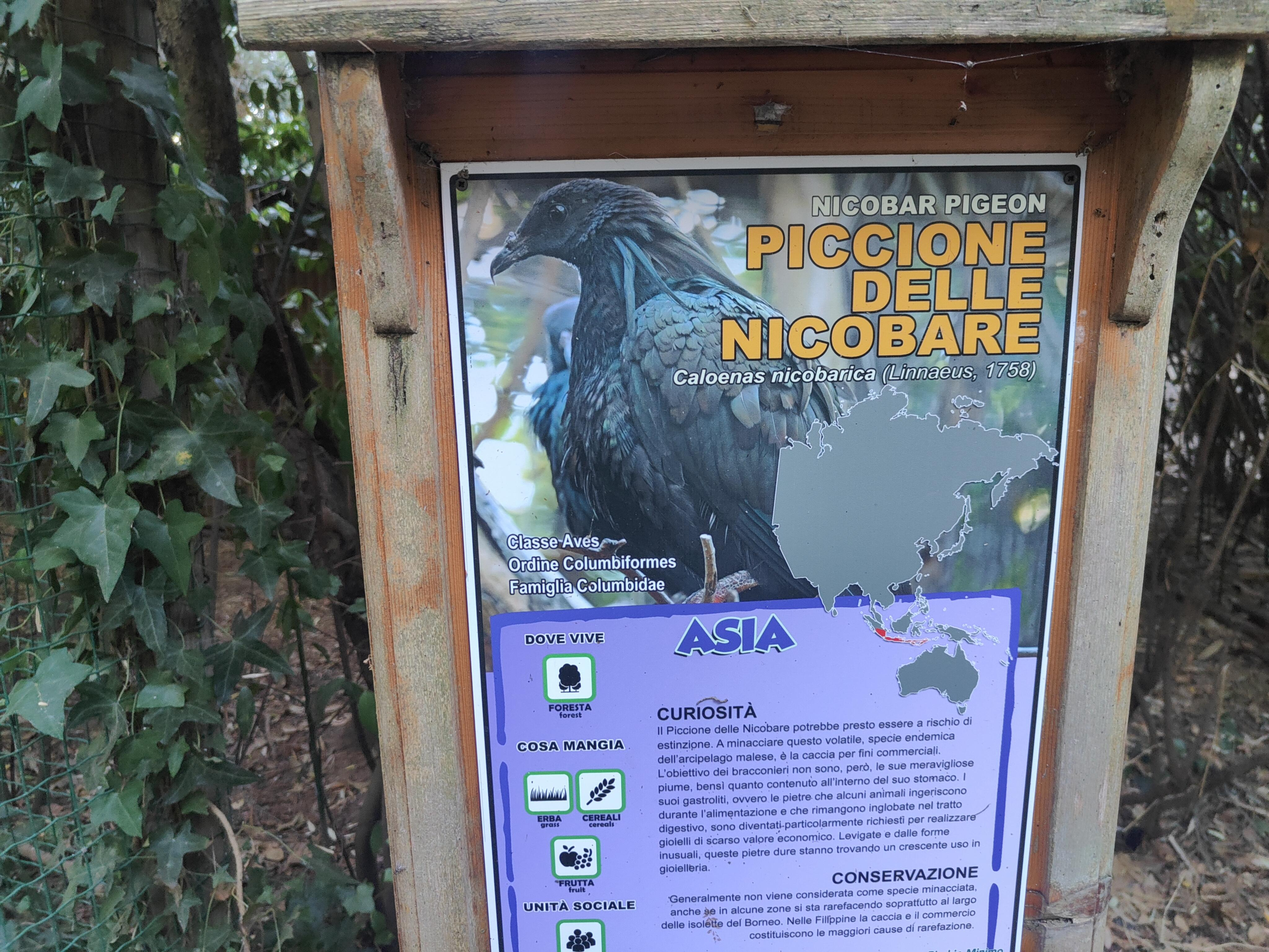apple: (491, 178, 911, 603)
